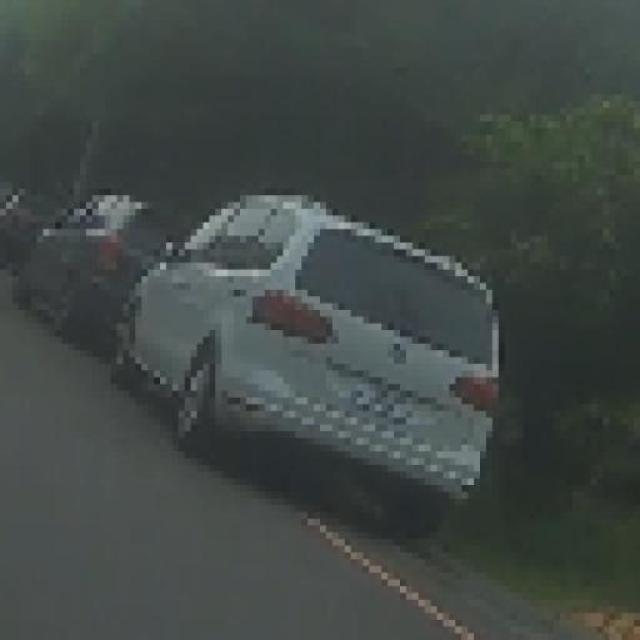Legalparking: (0, 156, 545, 524)
